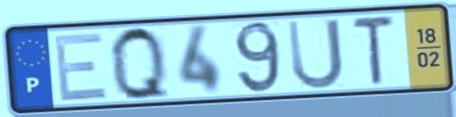4: (175, 20, 227, 99)
9: (230, 19, 282, 95)
E: (51, 30, 111, 104)
Q: (107, 23, 174, 104)
T: (349, 14, 397, 89)
U: (284, 16, 346, 92)
